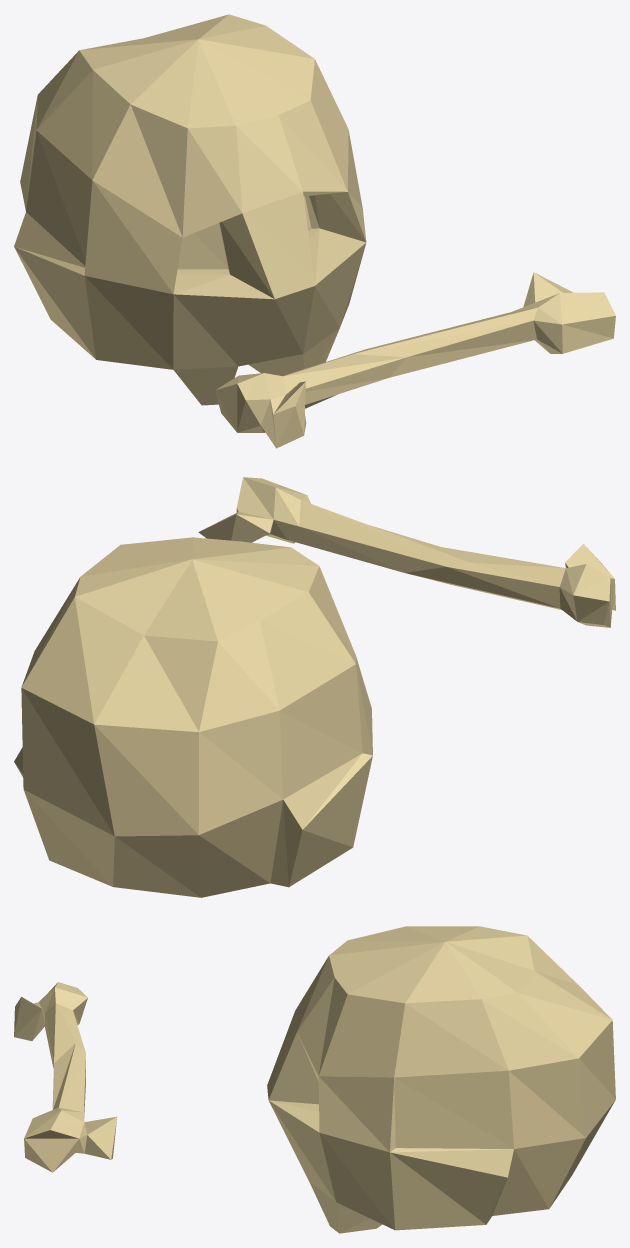
File: prop_skull.glb
3 renders of one model, top to bottom at view 1: azimuth 30°, elevation 25°; view 2: azimuth 150°, elevation 25°; view 3: azimuth 270°, elevation 25°, orthographic. The views are drawn at different scales.
Visible parts, largest first — view 1: Props with out snow_Skull_0; view 2: Props with out snow_Skull_0; view 3: Props with out snow_Skull_0.
Boxes of the visible parts, x1=… form: Props with out snow_Skull_0: x1=14, y1=14, x2=615, y2=448; Props with out snow_Skull_0: x1=14, y1=477, x2=615, y2=897; Props with out snow_Skull_0: x1=14, y1=926, x2=615, y2=1233.
Size of the model in its own units: 0.9223 by 0.7303 by 1.45.
